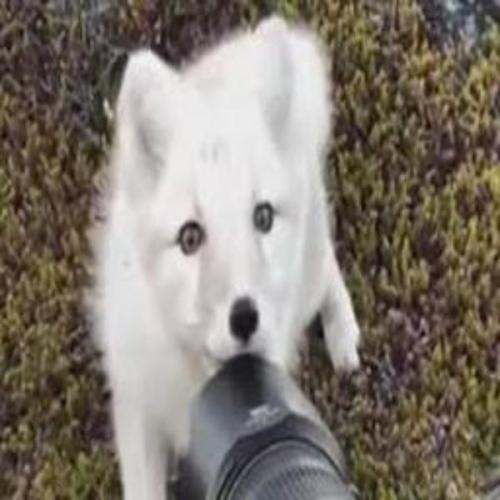arctic_fox-endangered: (94, 19, 359, 498)
